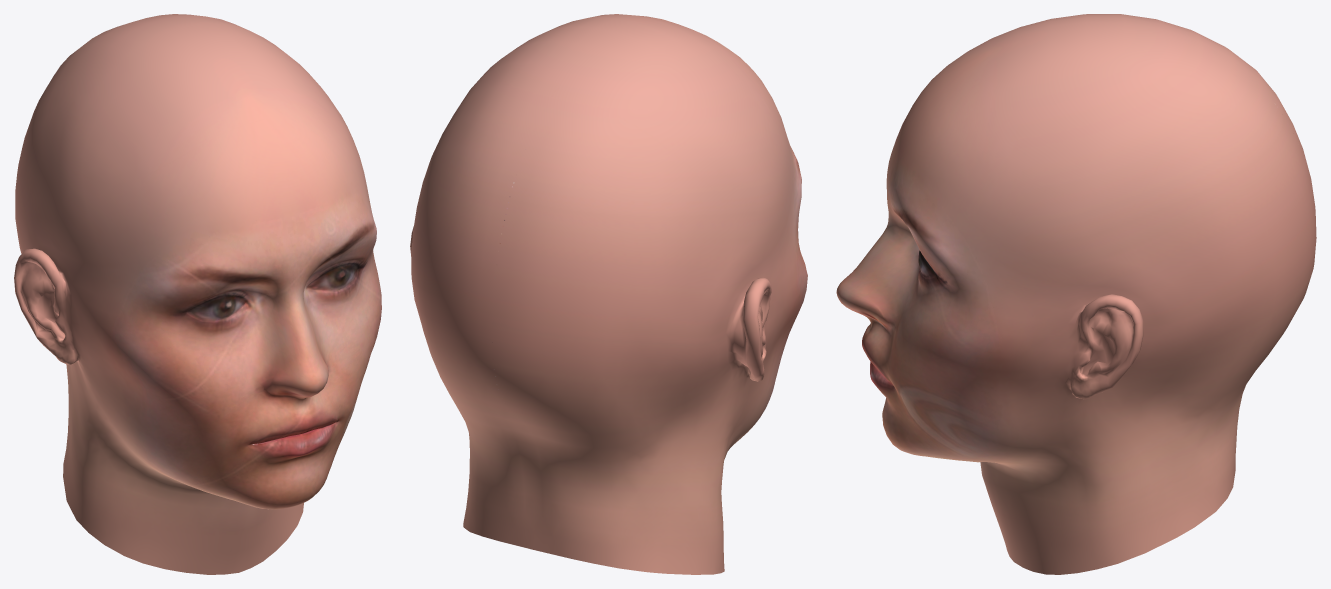
Rendered from Female_1.fbx.
3 views of the same model, side by side, from view 1: azimuth 30°, elevation 25°; view 2: azimuth 150°, elevation 25°; view 3: azimuth 270°, elevation 25° (orthographic). The views are drawn at different scales.
Parts seen in each view (by area): view 1: HeadHires; view 2: HeadHires; view 3: HeadHires.
Part boxes in pixels (<box>): HeadHires: <box>14,14,381,574</box>; HeadHires: <box>410,14,807,574</box>; HeadHires: <box>836,14,1316,574</box>.
Size of the model in its own units: 190 by 283 by 236.
1 material, 1 textured.
